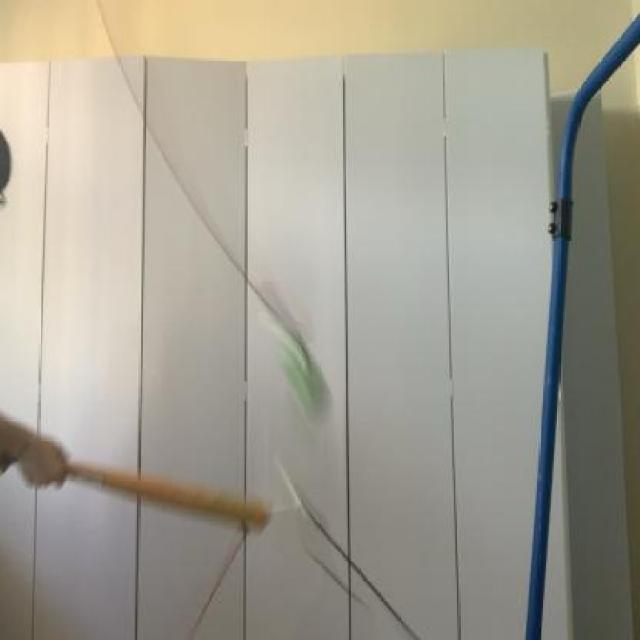baseball: (258, 310, 340, 424)
